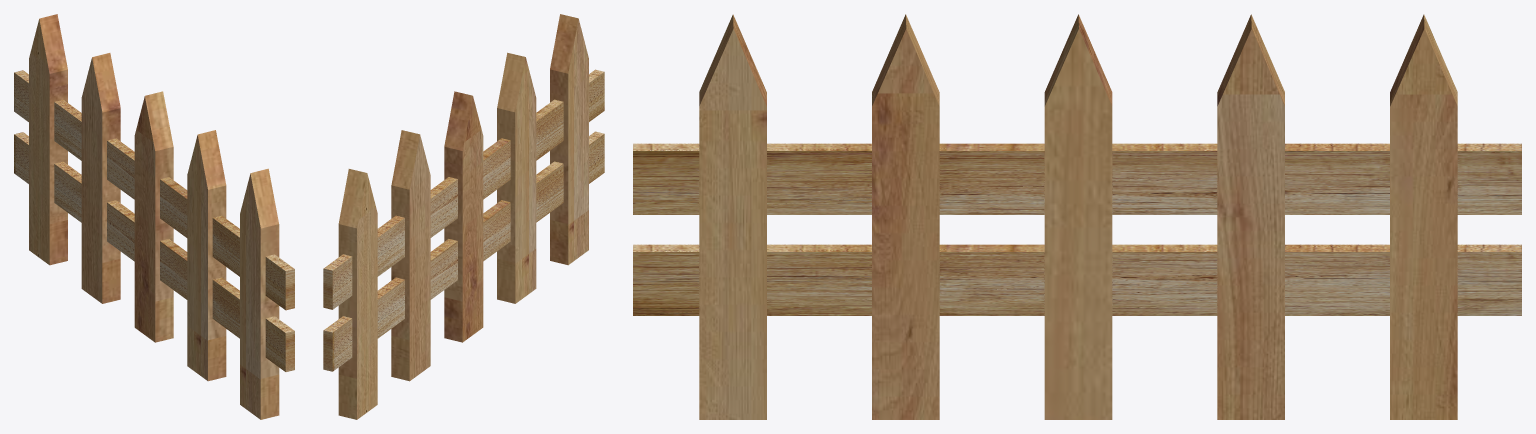
The model's file is sds.glb.
3 renders of one model, left to right at view 1: azimuth 30°, elevation 25°; view 2: azimuth 150°, elevation 25°; view 3: azimuth 270°, elevation 25°, orthographic. The views are drawn at different scales.
Visible parts, largest first — view 1: Asset3DLoader.sceneRoot; view 2: Asset3DLoader.sceneRoot; view 3: Asset3DLoader.sceneRoot.
Part boxes in pixels (box(x1,y1,x2,y2)): Asset3DLoader.sceneRoot: box(14, 14, 294, 419); Asset3DLoader.sceneRoot: box(323, 14, 604, 419); Asset3DLoader.sceneRoot: box(633, 14, 1521, 419).
Bounding box in the file's own units: 0.0976 × 1.21 × 2.5.
2 materials, 2 textured.
